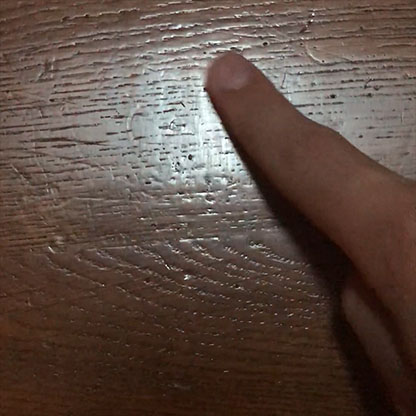fingertip: (200, 44, 266, 108)
